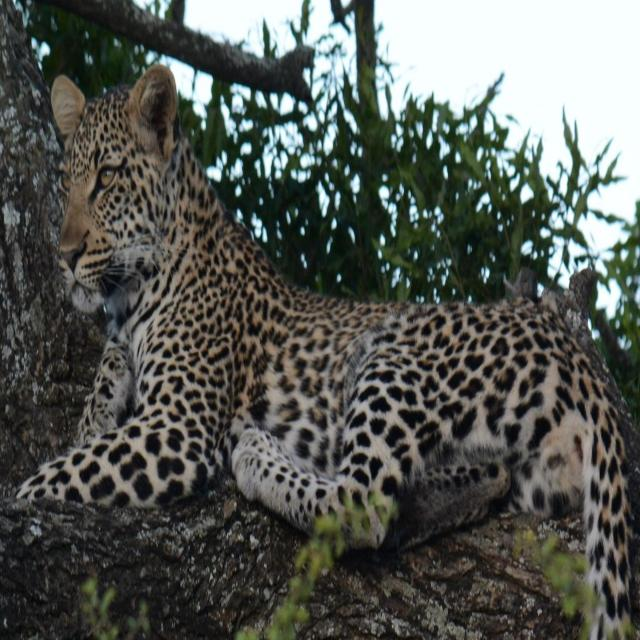Leopard: (0, 99, 640, 640)
